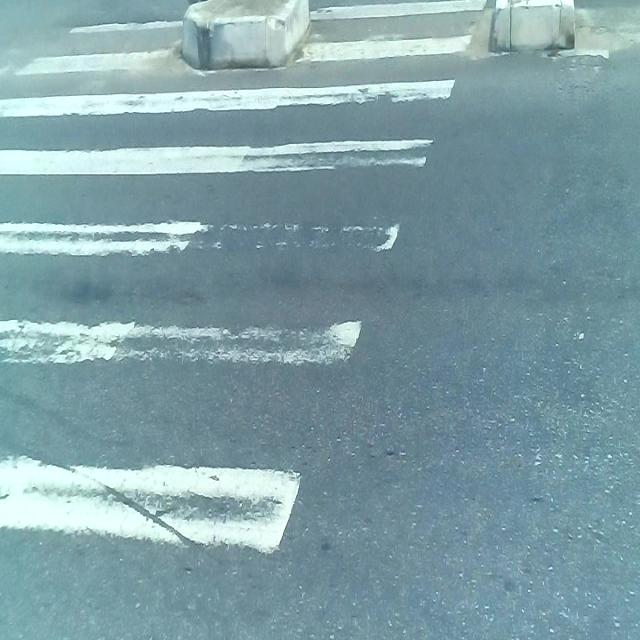crosswalk: (0, 0, 496, 640)
